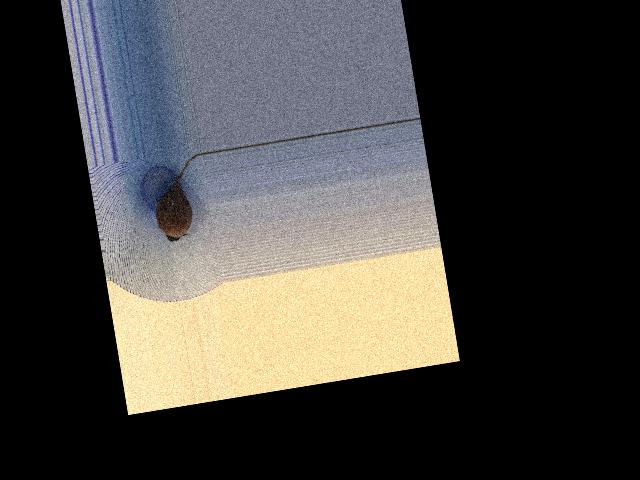beet: (147, 153, 216, 244)
